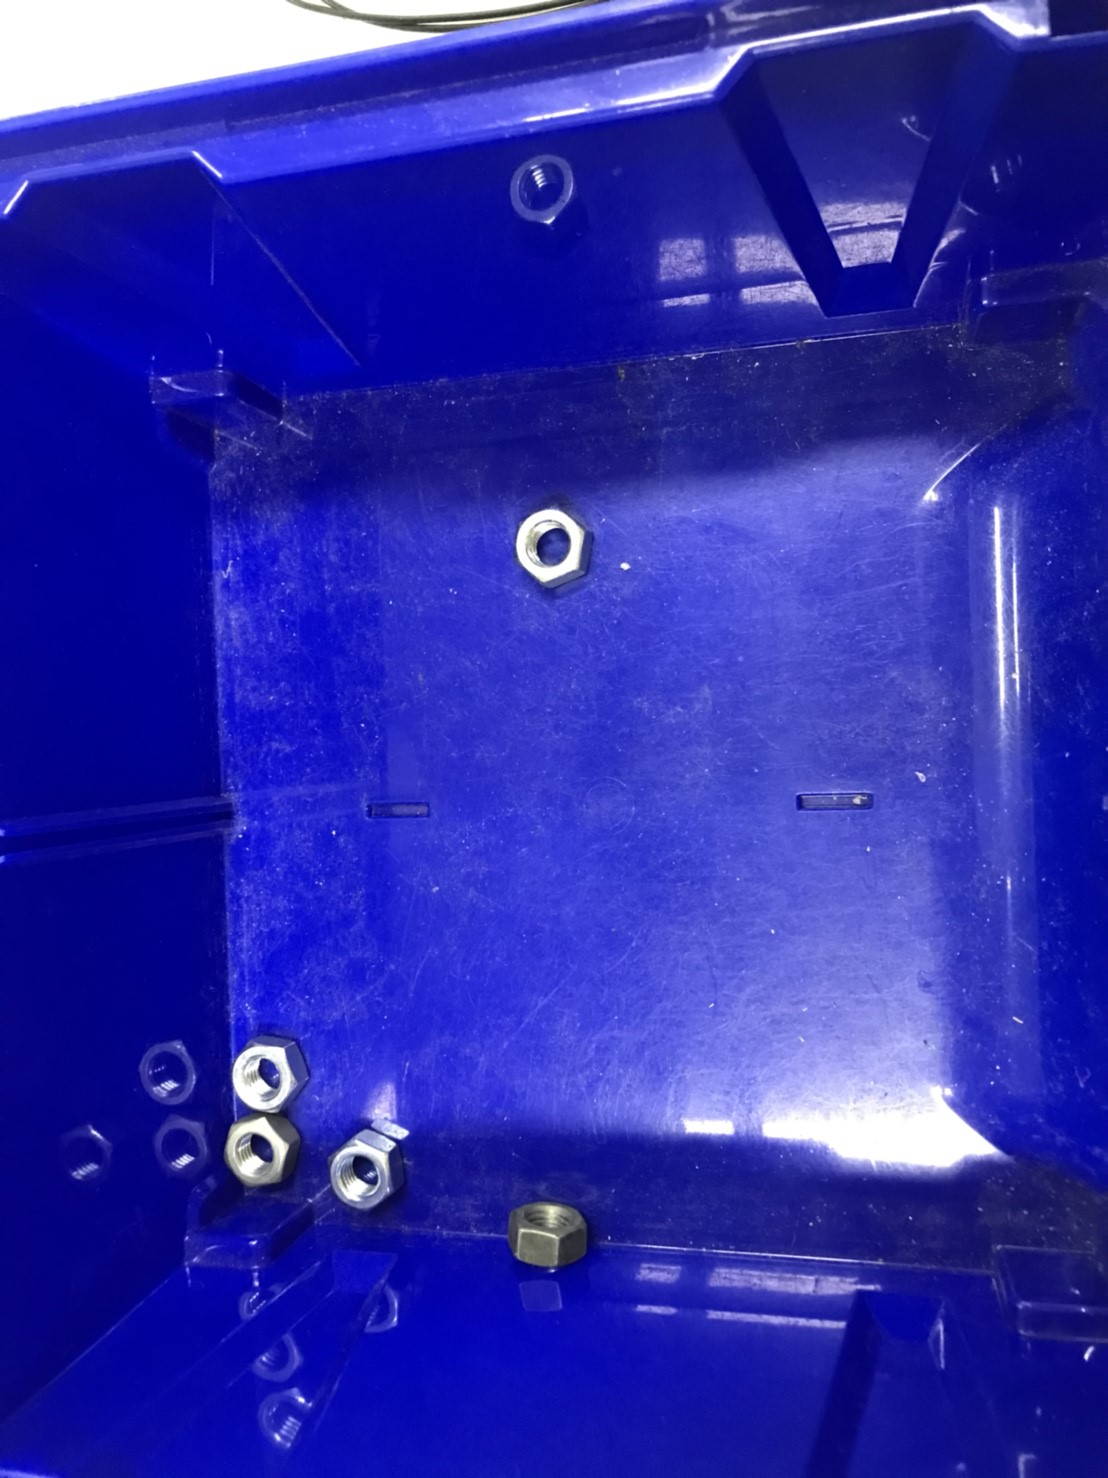nut: (507, 495, 596, 589), (223, 1026, 317, 1113), (326, 1121, 407, 1217), (216, 1113, 307, 1194), (509, 1198, 594, 1274), (132, 1110, 216, 1184), (128, 1036, 203, 1113)
